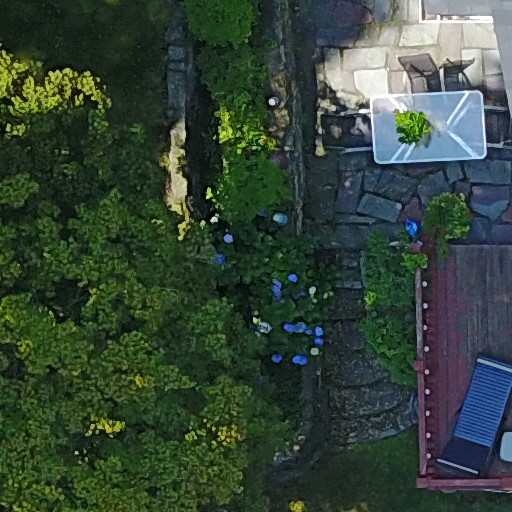flower pot: (387, 100, 441, 150)
